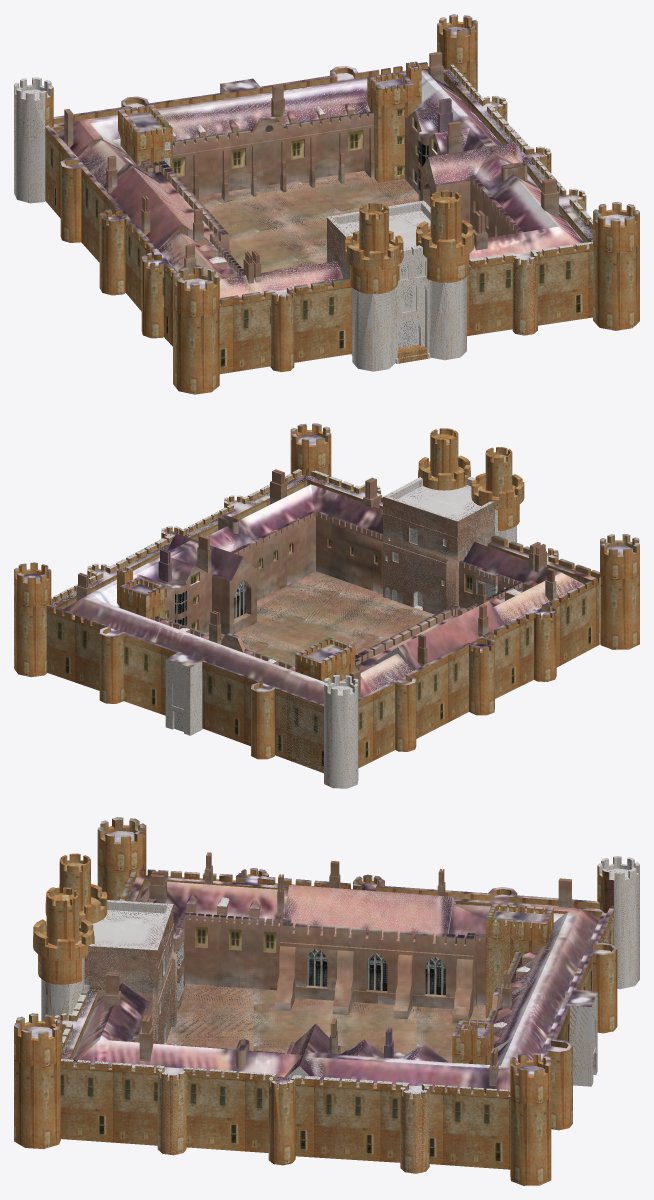
The model's file is herstmonceauxfinal.dae.
3 views of the same model, one above another, from view 1: azimuth 30°, elevation 25°; view 2: azimuth 150°, elevation 25°; view 3: azimuth 270°, elevation 25° (orthographic). The views are drawn at different scales.
Visible parts, largest first — view 1: SketchUp (×30); view 2: SketchUp (×33); view 3: SketchUp (×30).
Part boxes in pixels (bbox=[...]): SketchUp (×30): bbox=[14, 15, 639, 394]; SketchUp (×33): bbox=[14, 425, 639, 788]; SketchUp (×30): bbox=[14, 818, 639, 1185].
Bounding box in the file's own units: 2906 × 3035 × 878.
Materials: 13 (11 with a texture image).
